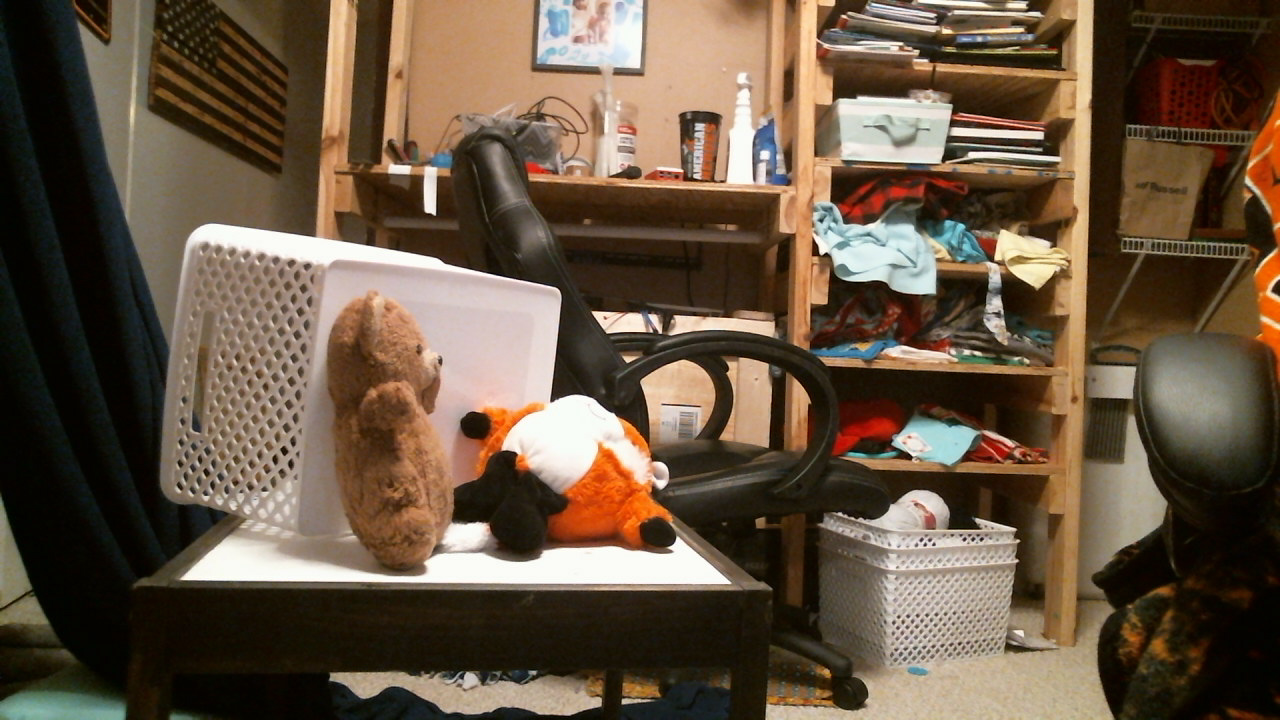Little_Mister_Bear: (395, 341, 449, 392)
